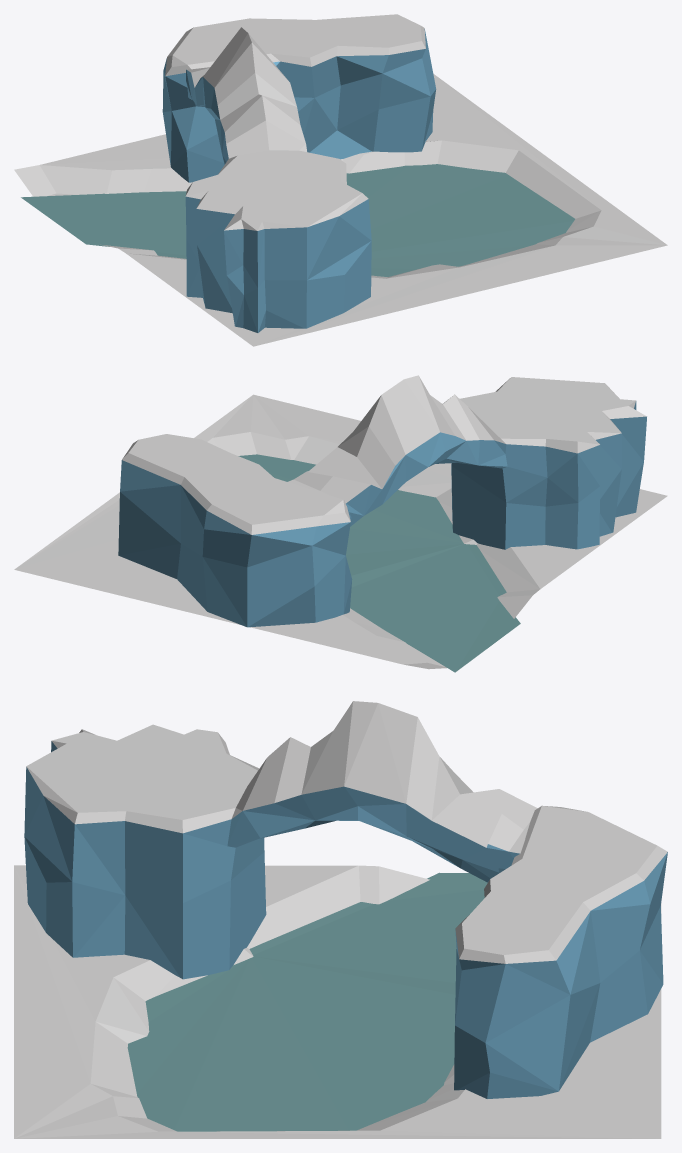
Rendered from Terrain_12.fbx.
3 views of the same model, one above another, from view 1: azimuth 30°, elevation 25°; view 2: azimuth 150°, elevation 25°; view 3: azimuth 270°, elevation 25° (orthographic). The views are drawn at different scales.
Visible parts, largest first — view 1: Plane.001, Plane, Plane.002; view 2: Plane.001, Plane, Plane.002; view 3: Plane.001, Plane.002, Plane.
Part boxes in pixels (x1,y1,x2,y2): Plane.001: (162, 14, 436, 332); Plane: (14, 74, 667, 346); Plane.002: (21, 164, 574, 276); Plane.001: (118, 375, 646, 627); Plane: (14, 394, 667, 669); Plane.002: (238, 454, 520, 672); Plane.001: (24, 701, 667, 1098); Plane.002: (127, 872, 487, 1131); Plane: (14, 865, 661, 1138).
Bounding box in the file's own units: 3277 × 1461 × 3232.
